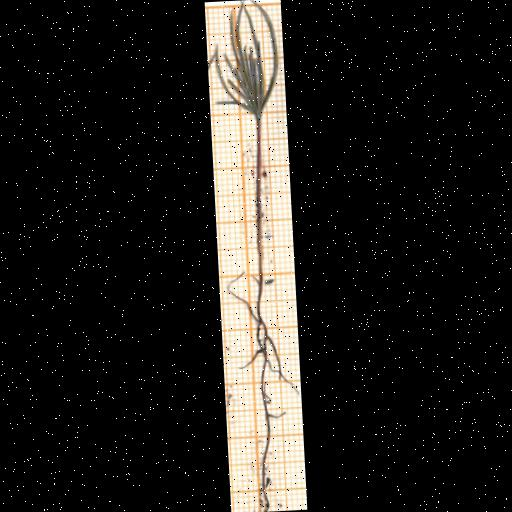flowerPinus: (217, 2, 278, 118)
rootPinus: (231, 277, 298, 510)
stemPinus: (256, 119, 263, 284)
